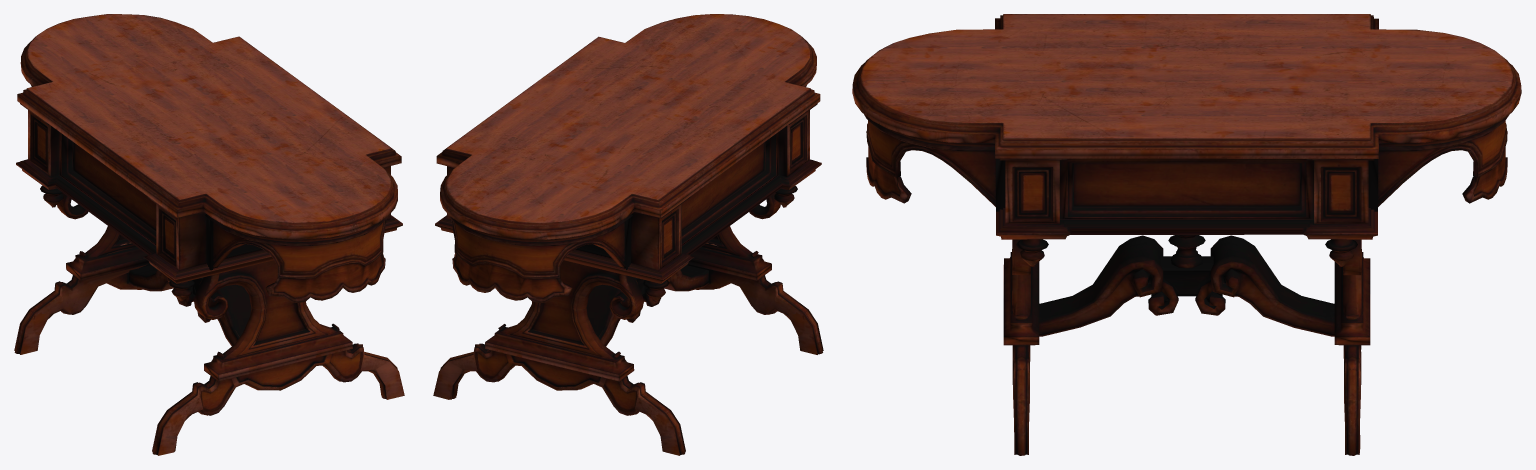
The model's file is table_top.glb.
The picture shows the model from 3 angles, left to right: view 1: azimuth 30°, elevation 25°; view 2: azimuth 150°, elevation 25°; view 3: azimuth 270°, elevation 25°; orthographic projection. The views are drawn at different scales.
Parts seen in each view (by area): view 1: Circle.019_Baked_Circle.019_Baked_0; view 2: Circle.019_Baked_Circle.019_Baked_0; view 3: Circle.019_Baked_Circle.019_Baked_0.
Part boxes in pixels (x1,y1,x2,y2): Circle.019_Baked_Circle.019_Baked_0: (14,14,404,455); Circle.019_Baked_Circle.019_Baked_0: (433,14,823,455); Circle.019_Baked_Circle.019_Baked_0: (852,14,1521,455).
Bounding box in the file's own units: 25042 × 24362 × 48225.
1 material, 1 textured.
